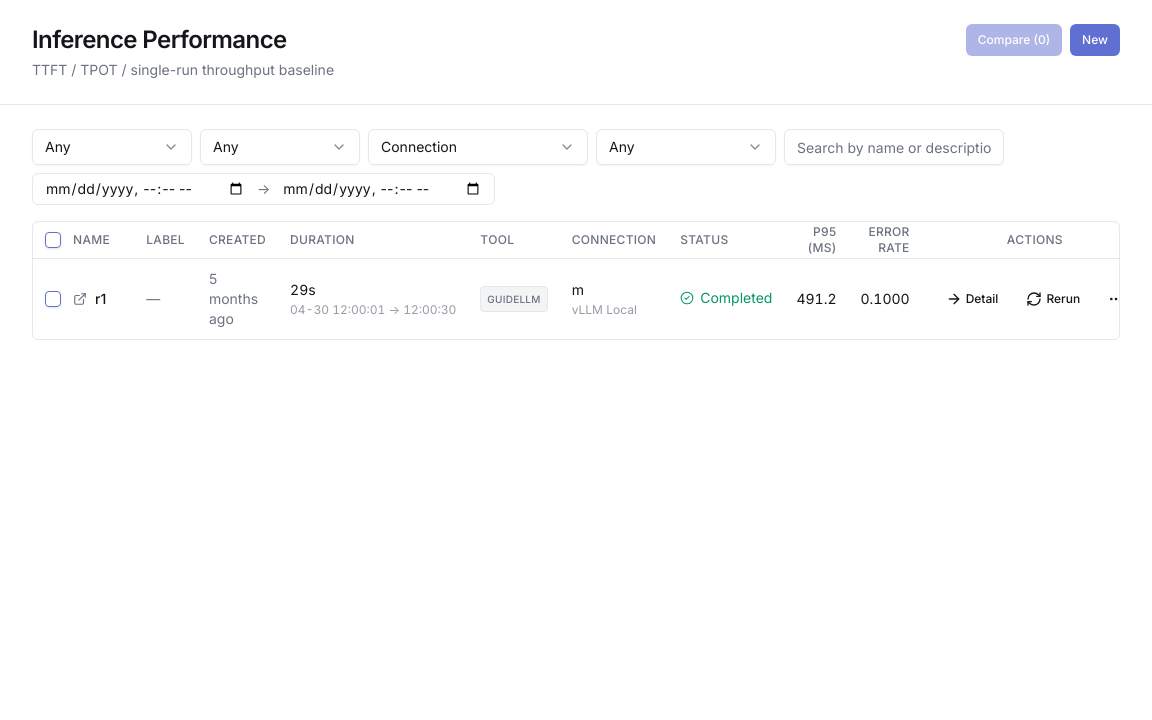
Test: BenchmarkListShell › save-as-template menu item opens dialog for completed rows
Expected: the text "r1" is shown, [95,288,106,308]
Click the button named "More": click(1116, 298) [1096,282,1136,314]
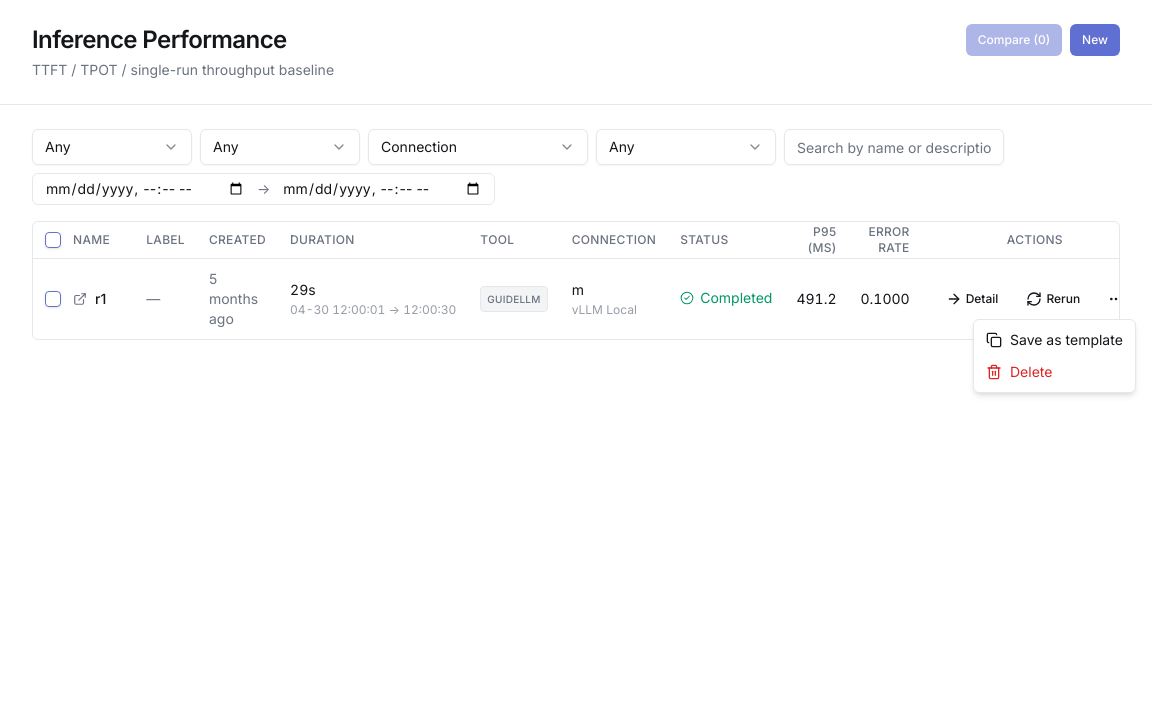
Click the menu item "Save as template": click(1054, 340) [986,331,1123,348]
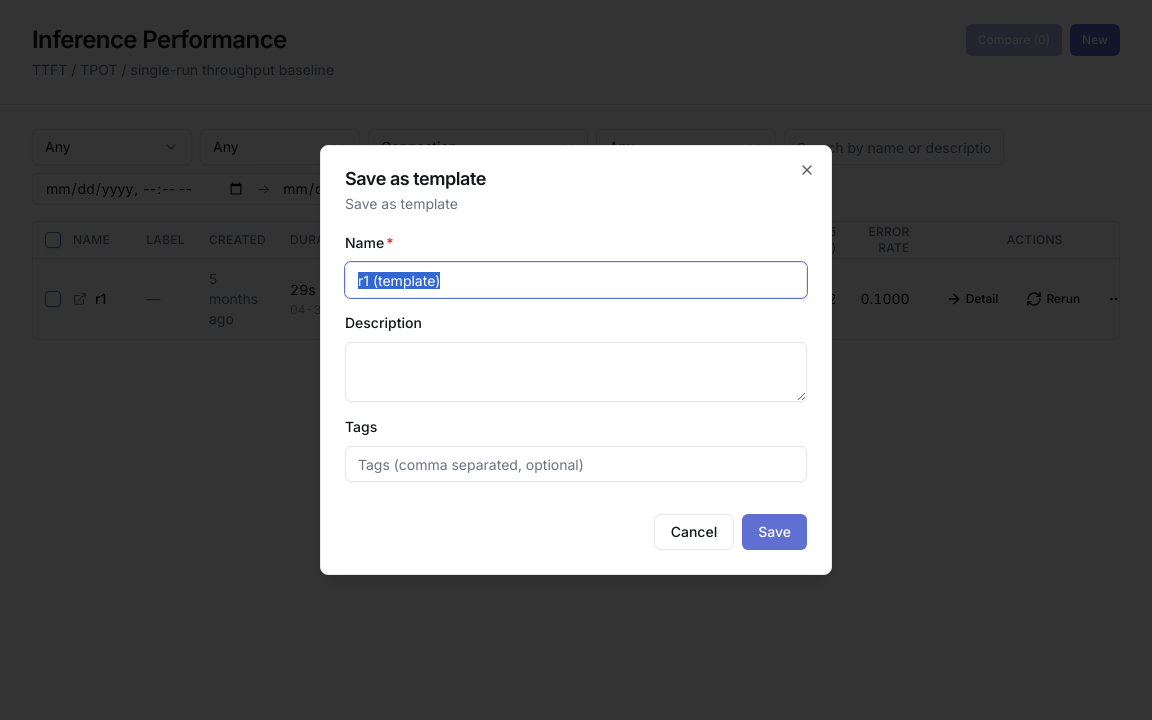
Result: the dialog is shown at [320,145,832,575]
